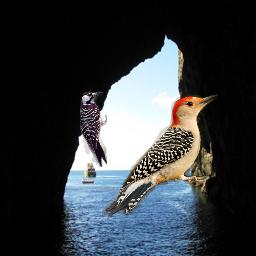Woodpecker: (102, 94, 218, 219), (80, 91, 107, 167)
